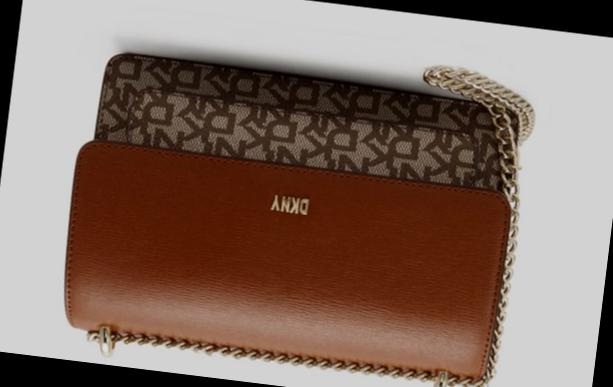DKNY: (268, 192, 308, 214)
